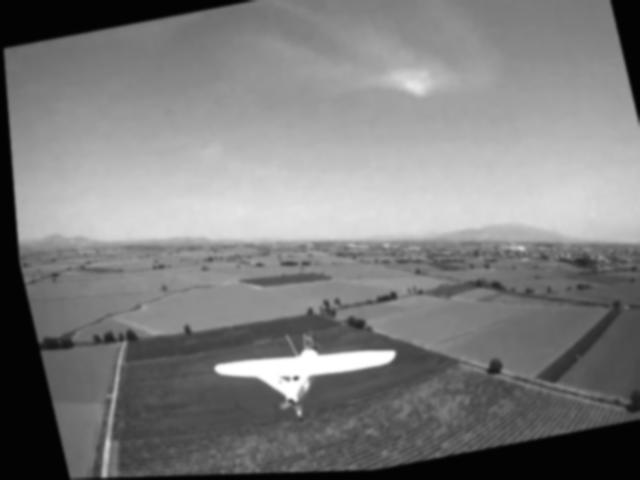hedef: (196, 310, 414, 439)
